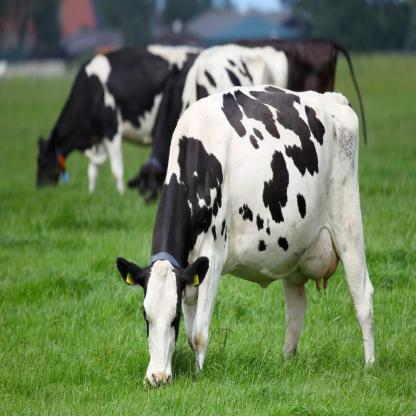cow: (115, 85, 375, 390), (126, 39, 368, 206), (35, 44, 203, 193), (178, 42, 289, 127)
